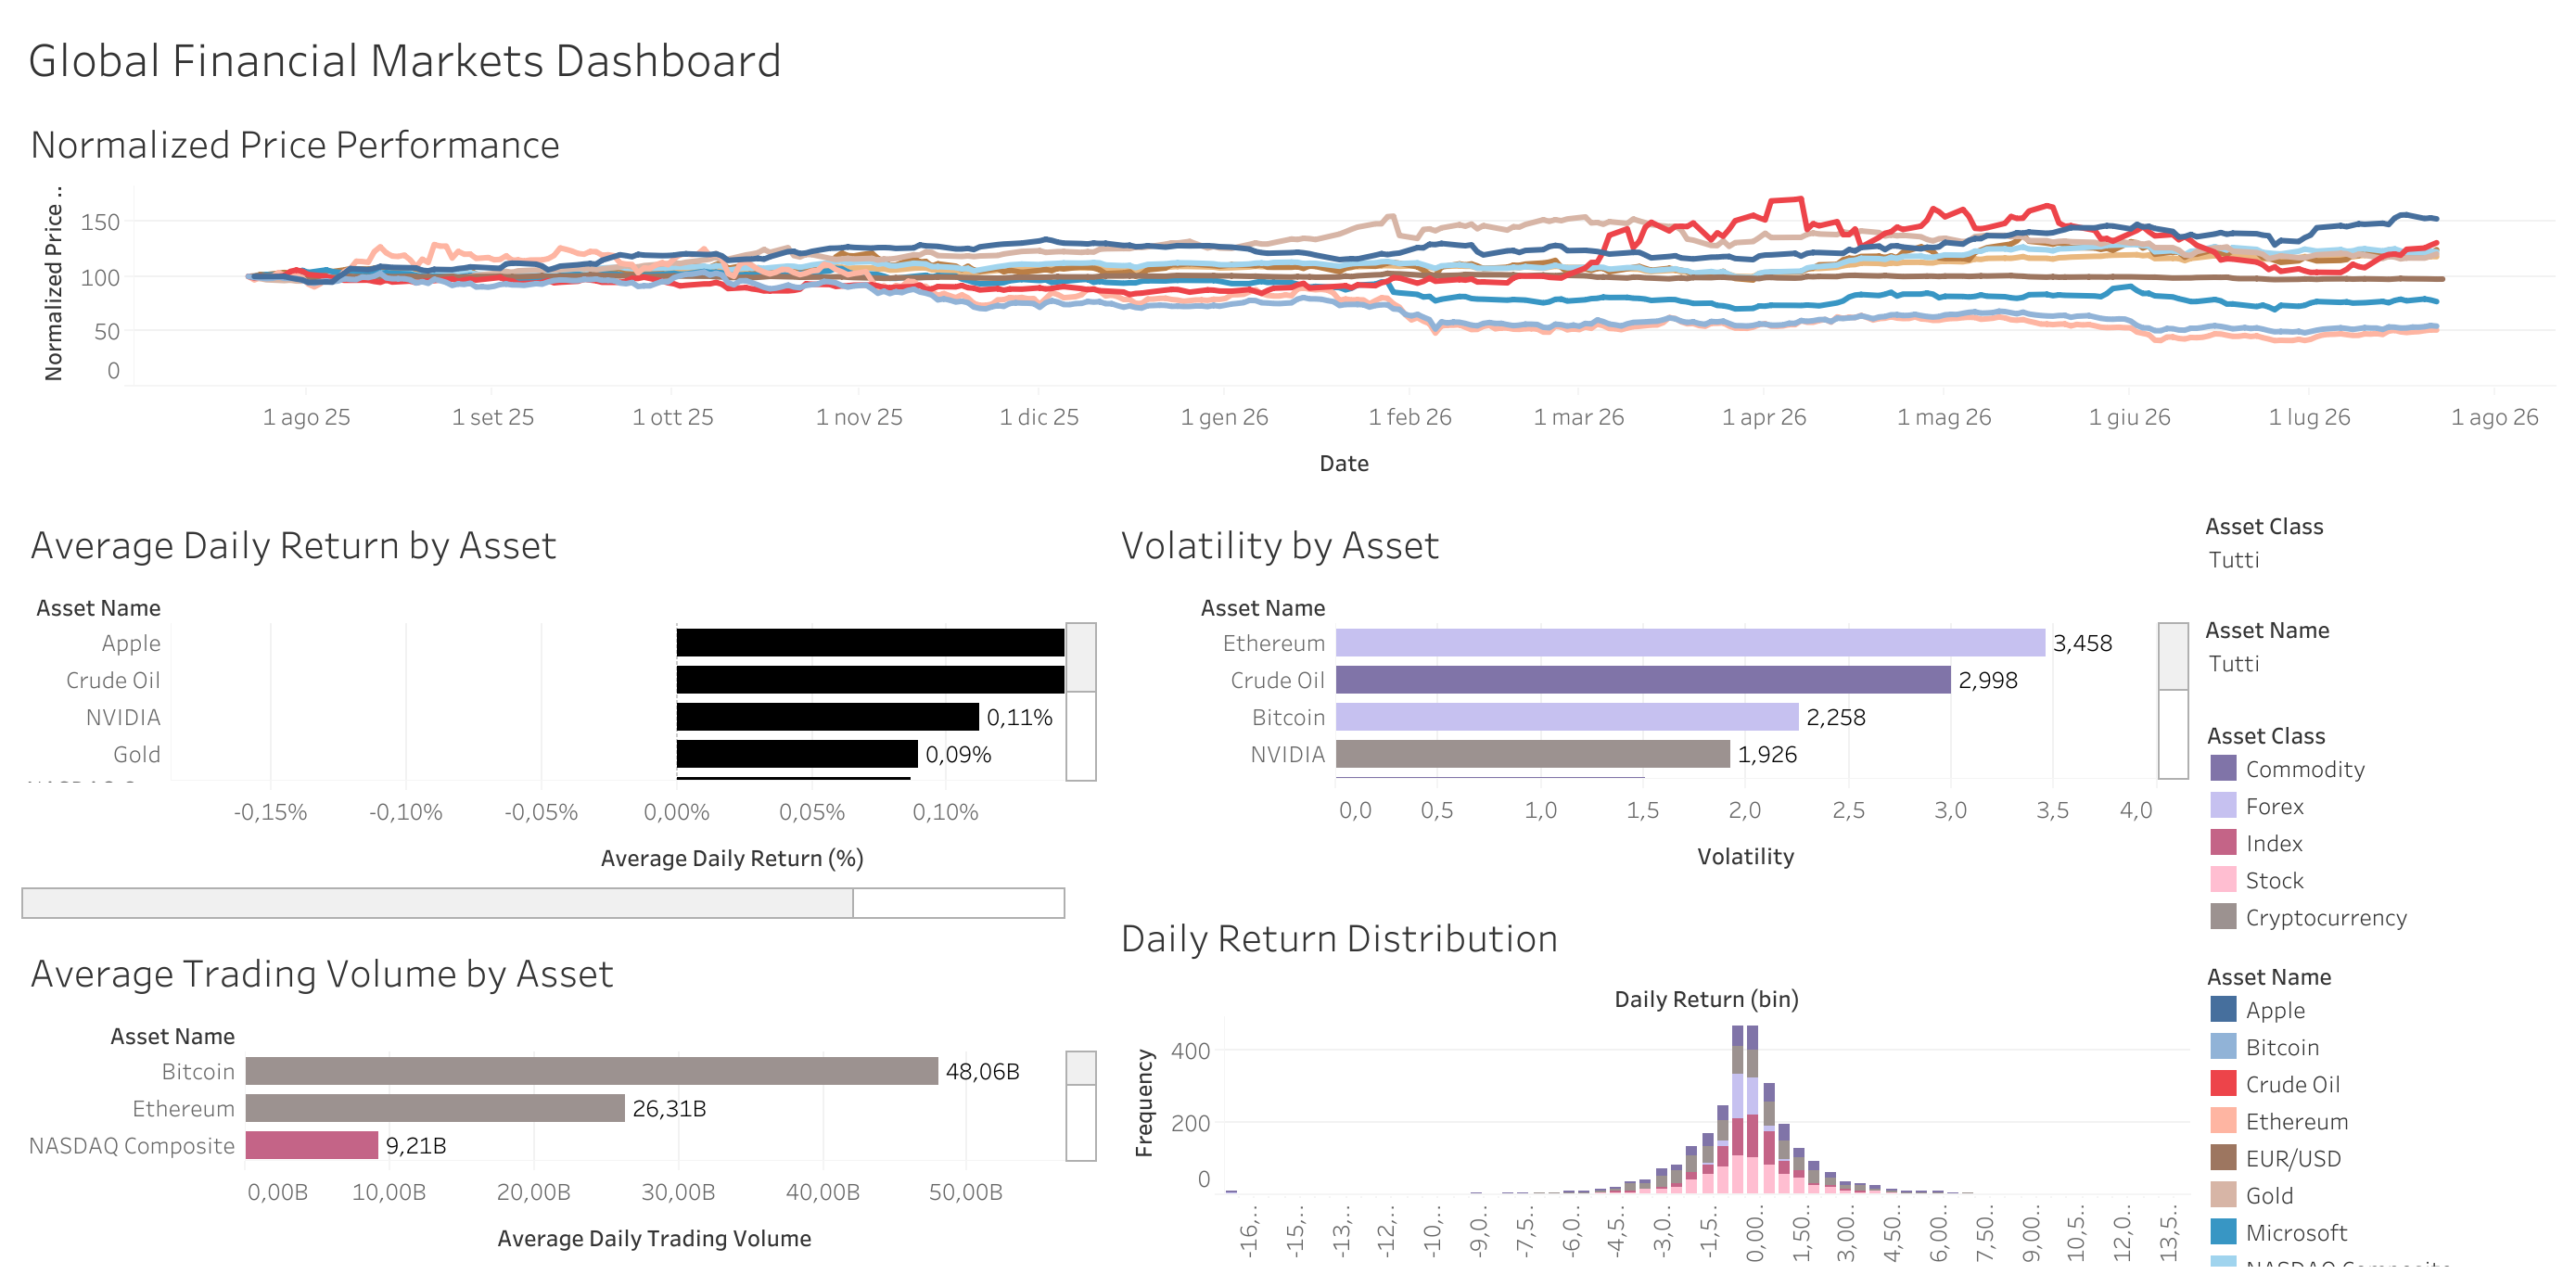

This screenshot's page, from the dashboard's own definition file:
{"tool":"tableau","page":{"name":"Global Financial Markets Dashboard","canvas":[1000,1000],"units":"permille","ordinal":0},"visuals":[{"type":"title","box":[6.3,9.9,987.4,55.7]},{"type":"worksheet","title":"Normalized Price Performance","mark":"Line","rows":["Normalized Price"],"cols":["Date"],"box":[6.3,65.6,987.4,267.3]},{"type":"worksheet","title":"Average Daily Return","mark":"Bar","rows":["Asset Name"],"cols":["Daily Return"],"box":[6.3,332.9,415.9,363.9]},{"type":"worksheet","title":"Volatility by Asset","mark":"Bar","rows":["Asset Name"],"cols":["Volatility"],"box":[422.2,332.9,416.3,332.9]},{"type":"filter","title":"Daily Return Distribution","param":"[federated.02wzoc50gb4dtq14q61bd1ybchi3].[none:Asset Class:nk]","box":[838.5,332.9,155.2,64.4]},{"type":"filter","title":"Normalized Price Performance","param":"[federated.02wzoc50gb4dtq14q61bd1ybchi3].[none:Asset Name:nk]","box":[838.5,397.3,155.2,64.4]},{"type":"legend","title":"Average Trading Volume","param":"[federated.02wzoc50gb4dtq14q61bd1ybchi3].[none:Asset Class:nk]","box":[838.5,461.6,155.2,160.9]},{"type":"legend","title":"Normalized Price Performance","param":"[federated.02wzoc50gb4dtq14q61bd1ybchi3].[none:Asset Name:nk]","box":[838.5,622.5,155.2,279.7]},{"type":"worksheet","title":"Daily Return Distribution","mark":"Automatic","rows":["market_data.csv_F4418539740945798171947EB133028D"],"cols":["Daily Return (bin)"],"box":[422.2,665.8,416.3,324.3]},{"type":"worksheet","title":"Average Trading Volume","mark":"Bar","rows":["Asset Name"],"cols":["Volume"],"box":[6.3,696.8,415.9,293.3]}]}

Visuals, with their boxes on the dashboard's canvas, which has no fixed pixel size, in thousandths of its width and height (x1, y1, x2, y2). These are canvas units, not pixel positions in the 2576x1287 screenshot, which may show the page scaled, cropped or inside an application window:
title: region(6, 10, 994, 66)
"Normalized Price Performance" worksheet (Line marks): region(6, 66, 994, 333)
"Average Daily Return" worksheet (Bar marks): region(6, 333, 422, 697)
"Volatility by Asset" worksheet (Bar marks): region(422, 333, 838, 666)
"Daily Return Distribution" filter: region(838, 333, 994, 397)
"Normalized Price Performance" filter: region(838, 397, 994, 462)
"Average Trading Volume" legend: region(838, 462, 994, 622)
"Normalized Price Performance" legend: region(838, 622, 994, 902)
"Daily Return Distribution" worksheet: region(422, 666, 838, 990)
"Average Trading Volume" worksheet (Bar marks): region(6, 697, 422, 990)
